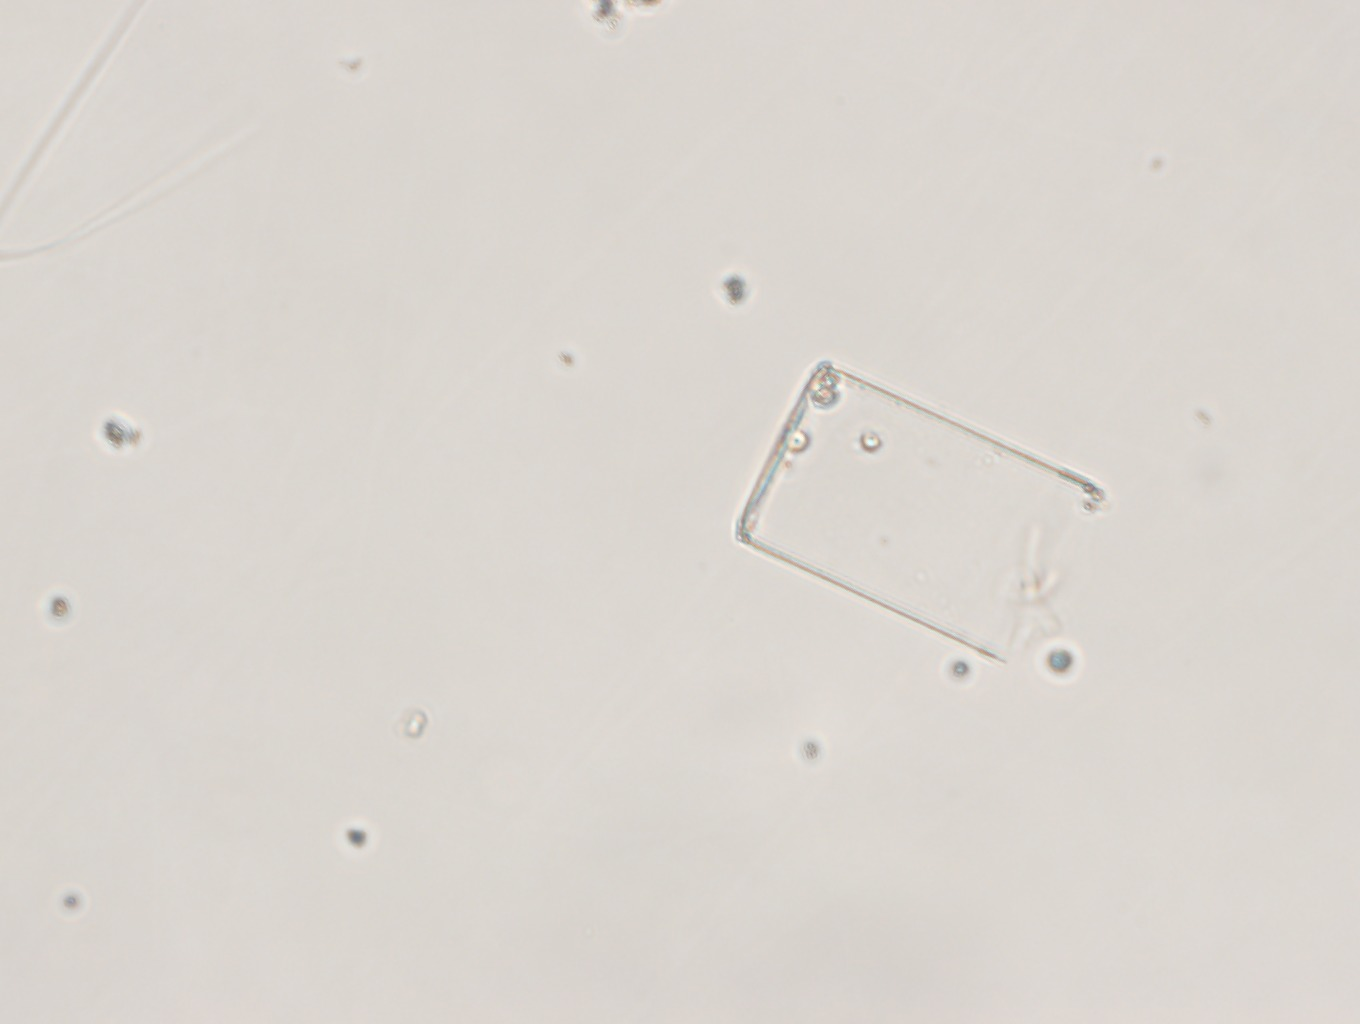guinardia flaccida: (724, 358, 1119, 686)
